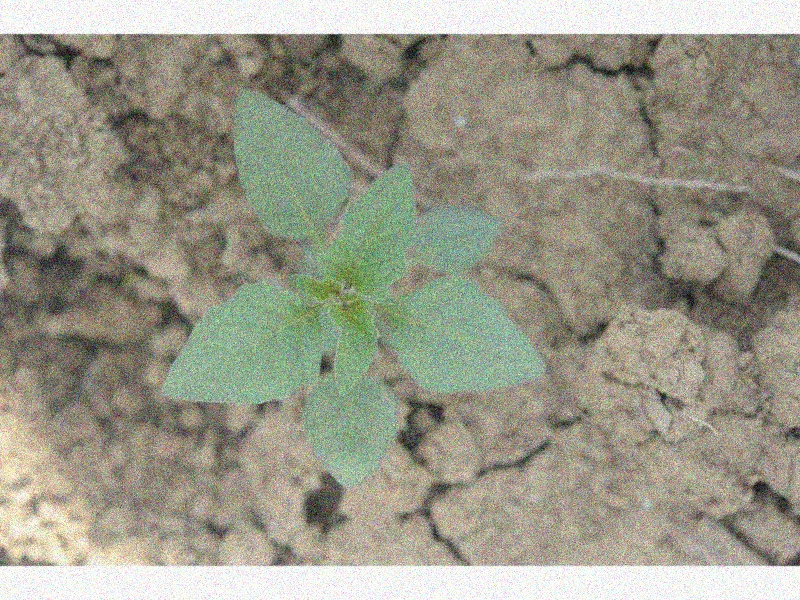nightshade: (162, 87, 544, 488)
